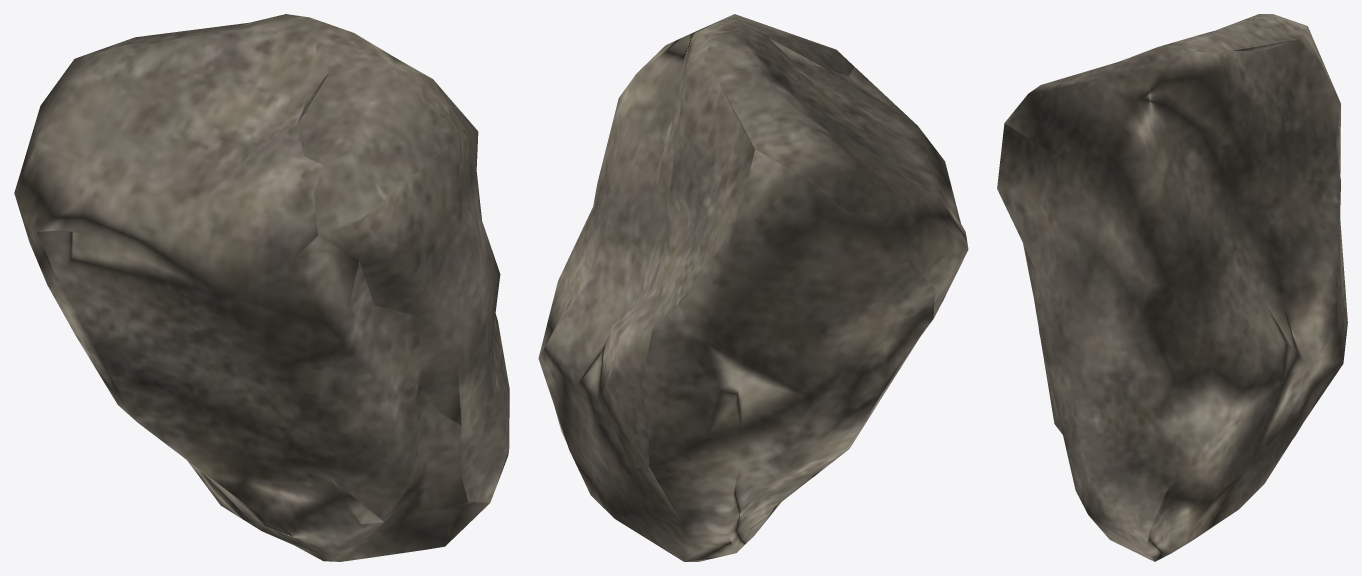
Rendered from rock_small_4.glb.
3 renders of one model, left to right at view 1: azimuth 30°, elevation 25°; view 2: azimuth 150°, elevation 25°; view 3: azimuth 270°, elevation 25°, orthographic. The views are drawn at different scales.
Parts seen in each view (by area): view 1: SM_Small_Rock_4_LOD3; view 2: SM_Small_Rock_4_LOD3; view 3: SM_Small_Rock_4_LOD3.
Part boxes in pixels (x1,y1,x2,y2): SM_Small_Rock_4_LOD3: (14, 14, 509, 561); SM_Small_Rock_4_LOD3: (538, 14, 968, 561); SM_Small_Rock_4_LOD3: (997, 14, 1347, 561).
Size of the model in its own units: 1.6 by 1.83 by 1.25.
1 material, 1 textured.
